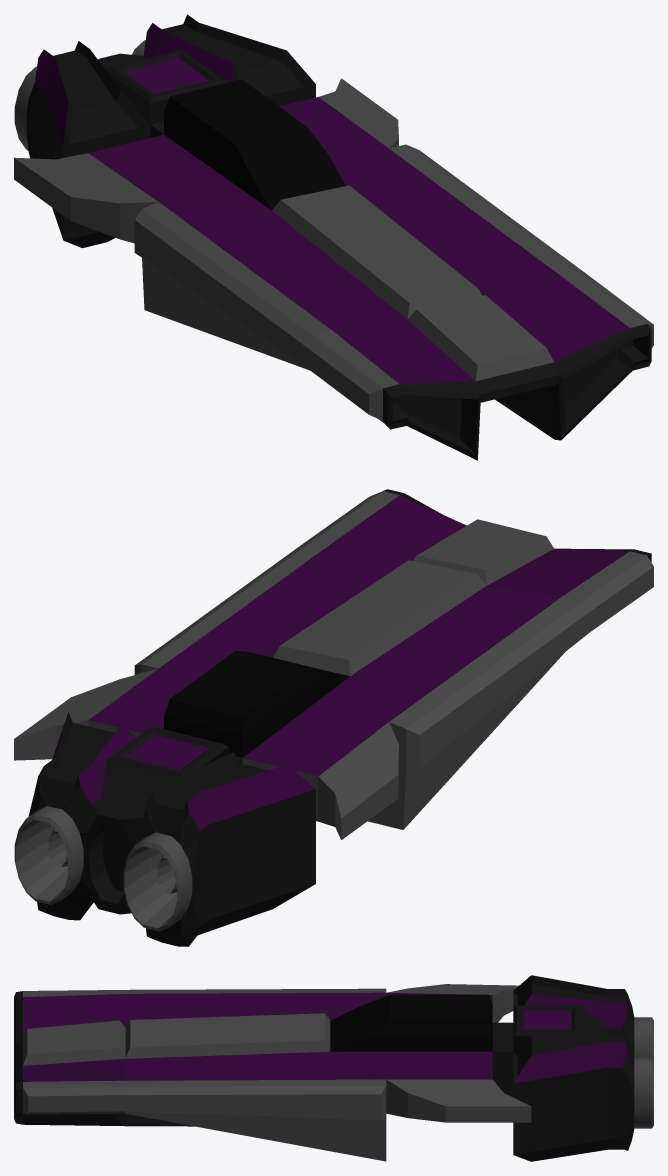
Rendered from Small_Hull_3.FBX.
3 renders of one model, top to bottom at view 1: azimuth 30°, elevation 25°; view 2: azimuth 150°, elevation 25°; view 3: azimuth 270°, elevation 25°, orthographic. The views are drawn at different scales.
Parts seen in each view (by area): view 1: Small Fighter Hull003; view 2: Small Fighter Hull003; view 3: Small Fighter Hull003.
Part boxes in pixels (box(x1,y1,x2,y2)): Small Fighter Hull003: box(14, 14, 653, 460); Small Fighter Hull003: box(14, 489, 653, 946); Small Fighter Hull003: box(14, 975, 653, 1161).
Bounding box in the file's own units: 49.02 × 110 × 22.55.
